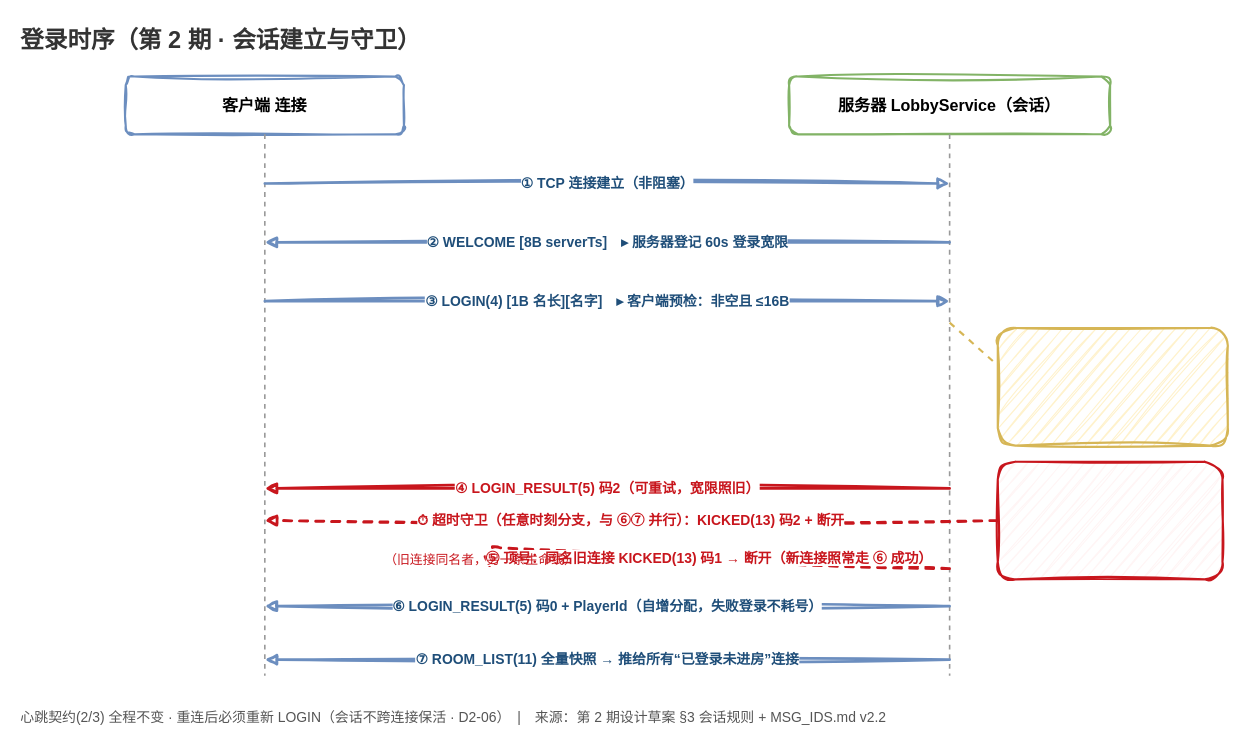
Some shapes in this 1247 by 748 pixel diagram are drawn without their labels. The shapes that lost their labels are listed below. From the top down, each one's centre as x and y in pixels, then its label:
At point (1112, 386): "③ 服务器侧校验（处理 LOGIN） ① 名字合法性：非法 → 回执码2 ② 重名查索引 → 顶号走 ⑤".
At point (1109, 520): "60s 登录宽限计时器（服务器侧） 到时未 LOGIN → KICKED(13) 码2 + 断开".
